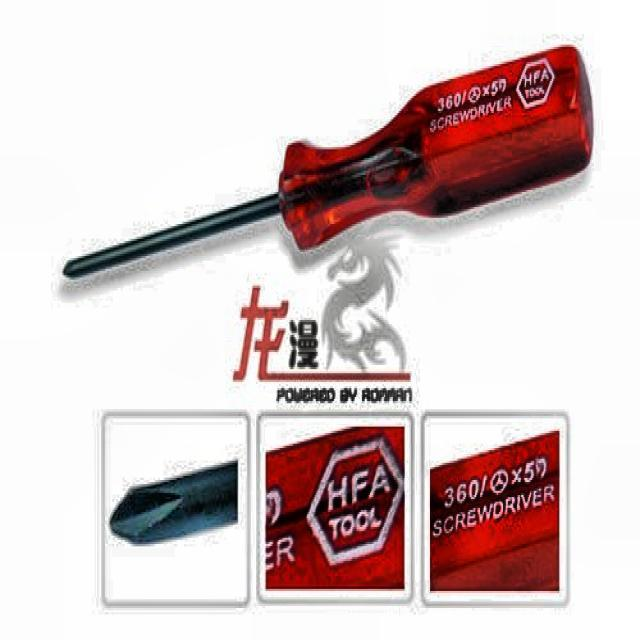screwdriver: (63, 41, 595, 278)
